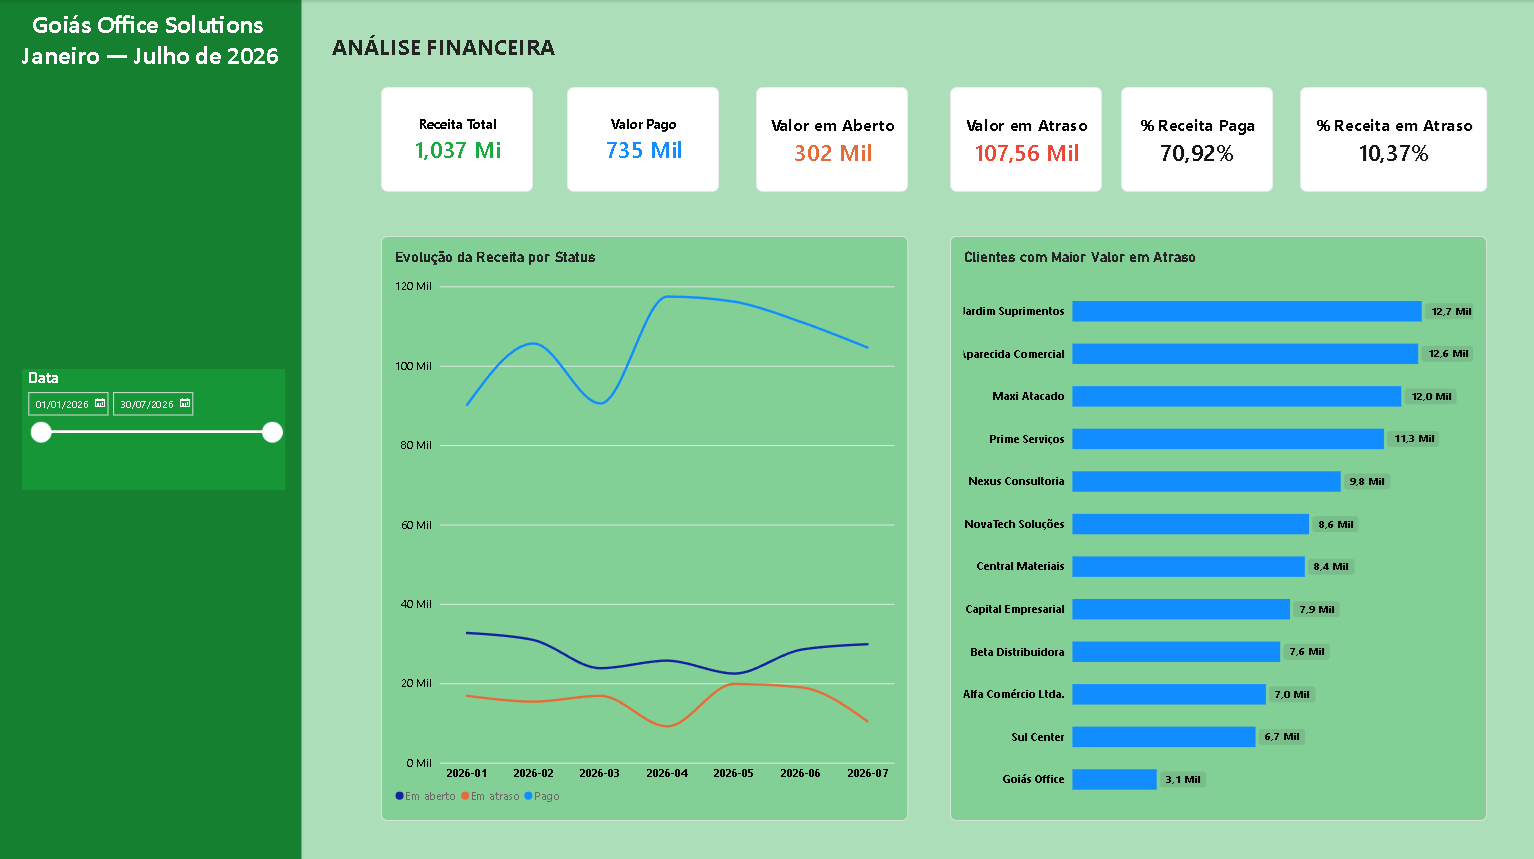

This screenshot's page, from the dashboard's own definition file:
{"tool":"powerbi","page":{"name":"Análise Financeira","canvas":[1920,1080],"ordinal":2},"visuals":[{"type":"lineChart","title":"Evolução da Receita por Status","fields":{"Category":["Calendario.AnoMes"],"Series":["Base_Dados.Status"],"Y":["Base_Dados.Receita Total"]},"box":[477.1,297.1,658.6,731.4],"z":0},{"type":"barChart","title":"Clientes com Maior Valor em Atraso","fields":{"Category":["Base_Dados.Cliente"],"Y":["Base_Dados.Valor em Atraso"]},"box":[1188.6,297.1,671.4,731.4],"z":1000},{"type":"textbox","box":[415.7,41.4,312.9,57.1],"z":2000},{"type":"cardVisual","fields":{"Data":["Base_Dados.Receita Total"]},"box":[477.1,111.4,190,131.2],"z":3000},{"type":"cardVisual","fields":{"Data":["Base_Dados.Valor Pago"]},"box":[710,111.4,190,131.2],"z":4000},{"type":"cardVisual","fields":{"Data":["Base_Dados.Valor em Aberto"]},"box":[945.7,111.4,190,131.2],"z":5000},{"type":"cardVisual","fields":{"Data":["Base_Dados.Valor em Atraso"]},"box":[1188.6,111.4,190,131.2],"z":6000},{"type":"cardVisual","fields":{"Data":["Base_Dados.% Receita Paga"]},"box":[1402.9,111.4,190,131.2],"z":7000},{"type":"cardVisual","fields":{"Data":["Base_Dados.% Receita em Atraso"]},"box":[1625.7,111.4,234.3,131.4],"z":8000},{"type":"shape","box":[0,0,378.3,1080],"z":10500},{"type":"slicer","fields":{"Values":["Calendario.Date"]},"box":[28.6,464.3,328.6,151.4],"z":11000},{"type":"textbox","box":[0,14.3,378.6,144.3],"z":11001}]}

Visuals, with their boxes in screenshot pixels (x1, y1, x2, y2), scaled from the page's 1920x1080 canvas onto the 1534x859 screenshot:
"Evolução da Receita por Status" lineChart: (left=381, top=236, right=907, bottom=818)
"Clientes com Maior Valor em Atraso" barChart: (left=950, top=236, right=1486, bottom=818)
textbox: (left=332, top=33, right=582, bottom=78)
cardVisual - Base_Dados.Receita Total: (left=381, top=89, right=533, bottom=193)
cardVisual - Base_Dados.Valor Pago: (left=567, top=89, right=719, bottom=193)
cardVisual - Base_Dados.Valor em Aberto: (left=756, top=89, right=907, bottom=193)
cardVisual - Base_Dados.Valor em Atraso: (left=950, top=89, right=1101, bottom=193)
cardVisual - Base_Dados.% Receita Paga: (left=1121, top=89, right=1273, bottom=193)
cardVisual - Base_Dados.% Receita em Atraso: (left=1299, top=89, right=1486, bottom=193)
shape: (left=0, top=0, right=302, bottom=858)
slicer - Calendario.Date: (left=23, top=369, right=285, bottom=490)
textbox: (left=0, top=11, right=302, bottom=126)
